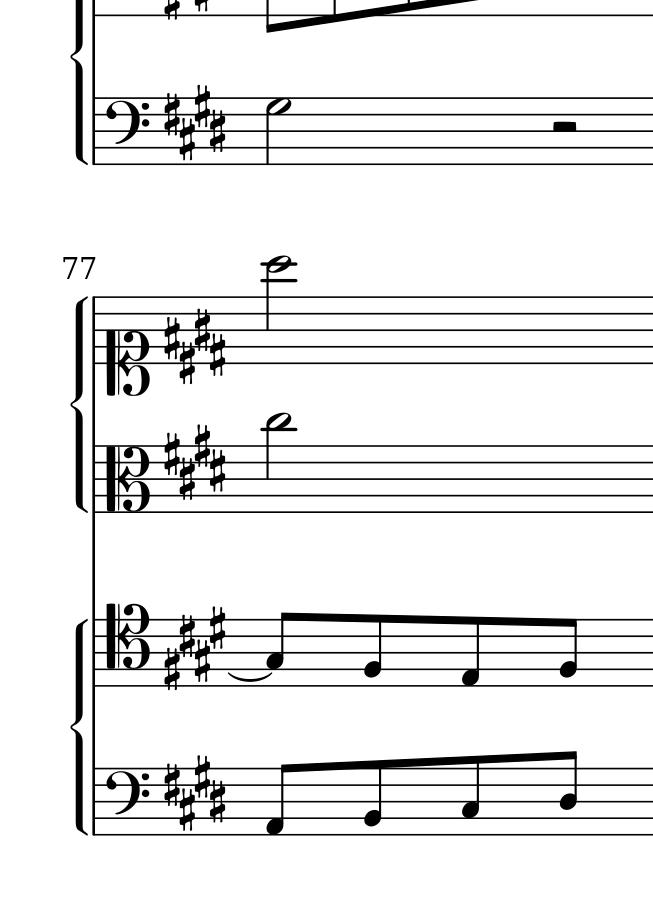2_11: (261, 412, 294, 515)
2_12: (260, 255, 295, 366)
2_7: (264, 97, 290, 164)
7: (79, 253, 97, 281), (63, 255, 78, 282)
8_1: (262, 762, 293, 837), (459, 614, 482, 690)
8_2: (362, 759, 383, 837), (362, 613, 383, 689), (558, 617, 580, 688)
8_3: (265, 610, 293, 689), (460, 753, 481, 839)
8_4: (558, 749, 579, 838)
Brace: (71, 617, 91, 836), (70, 293, 88, 514)
Cclef: (105, 441, 149, 515)
E_S: (161, 605, 228, 691), (158, 754, 227, 832), (161, 83, 227, 163), (162, 424, 228, 504), (158, 307, 226, 384)
Fclef: (103, 94, 149, 166), (103, 764, 149, 836)
Rests2: (549, 119, 580, 136)
Single_barline: (88, 618, 103, 689), (88, 444, 102, 514), (88, 768, 102, 835), (88, 98, 102, 164), (87, 298, 101, 364)
Slur: (225, 671, 274, 683)
Soprano_Cclef: (105, 294, 147, 395)
Tensor_Cclef: (103, 602, 151, 685)
